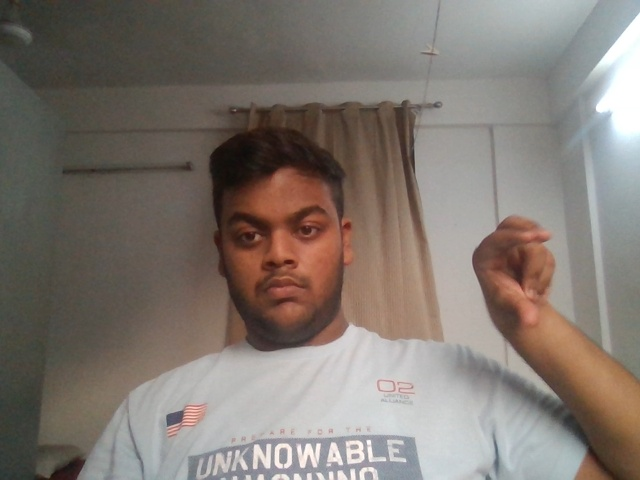No: (447, 191, 590, 366)
